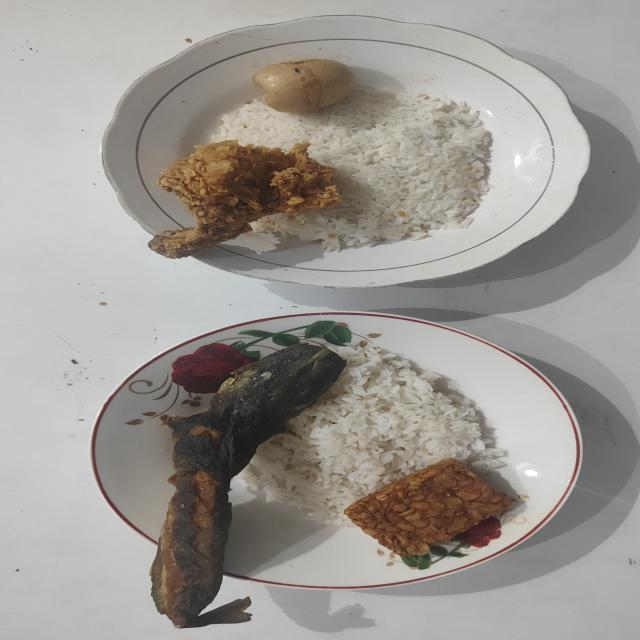nasi_putih: (241, 342, 507, 526), (212, 89, 492, 253)
tempe_goreng: (344, 458, 514, 558)
